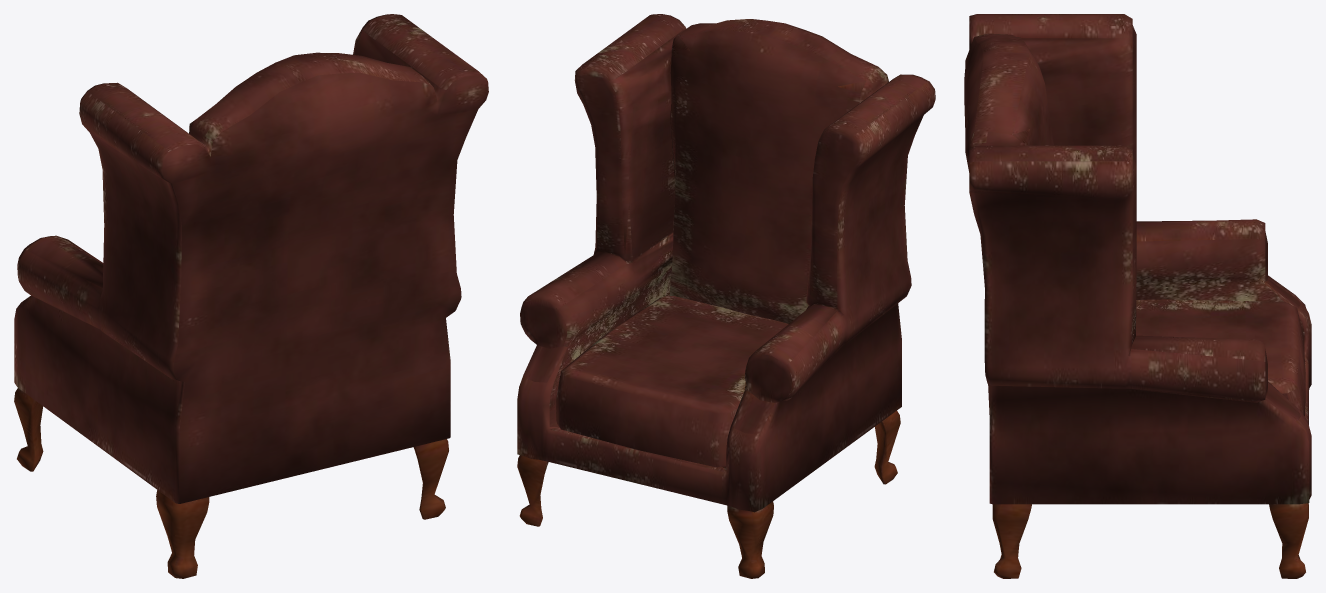
3 views of the same model, side by side, from view 1: azimuth 30°, elevation 25°; view 2: azimuth 150°, elevation 25°; view 3: azimuth 270°, elevation 25° (orthographic). The views are drawn at different scales.
Visible parts, largest first — view 1: chair_chesterfield; view 2: chair_chesterfield; view 3: chair_chesterfield.
Boxes of the visible parts, box(x1,y1,x2,y2) form: chair_chesterfield: box(14, 14, 488, 578); chair_chesterfield: box(517, 14, 935, 578); chair_chesterfield: box(964, 14, 1311, 578).
Size of the model in its own units: 116 by 161 by 109.
Materials: 1 (1 with a texture image).
